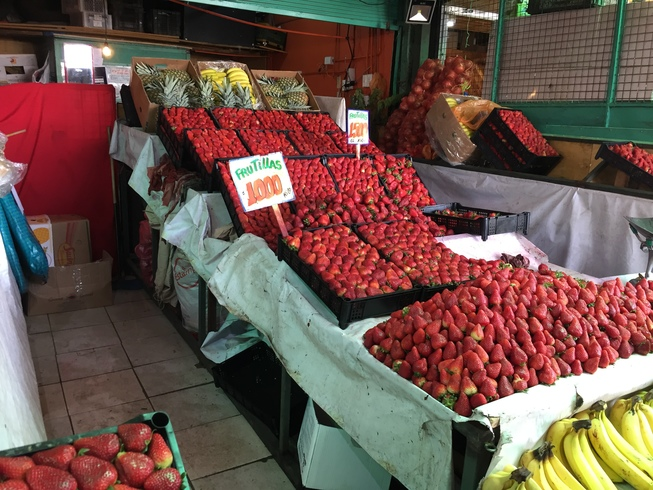precio: (229, 153, 294, 210), (348, 107, 371, 148)
